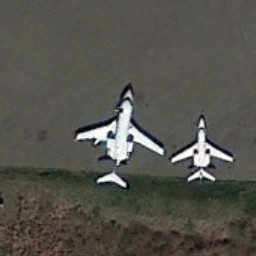Airplane: (72, 75, 167, 193), (169, 102, 238, 196)
